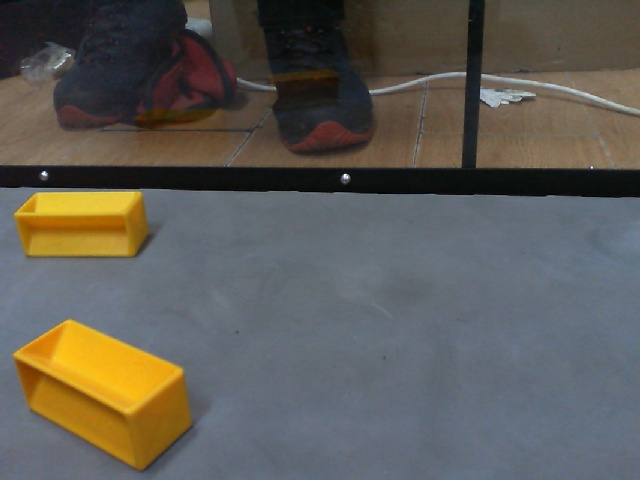YellowSample: (10, 317, 197, 473), (11, 188, 153, 260)
